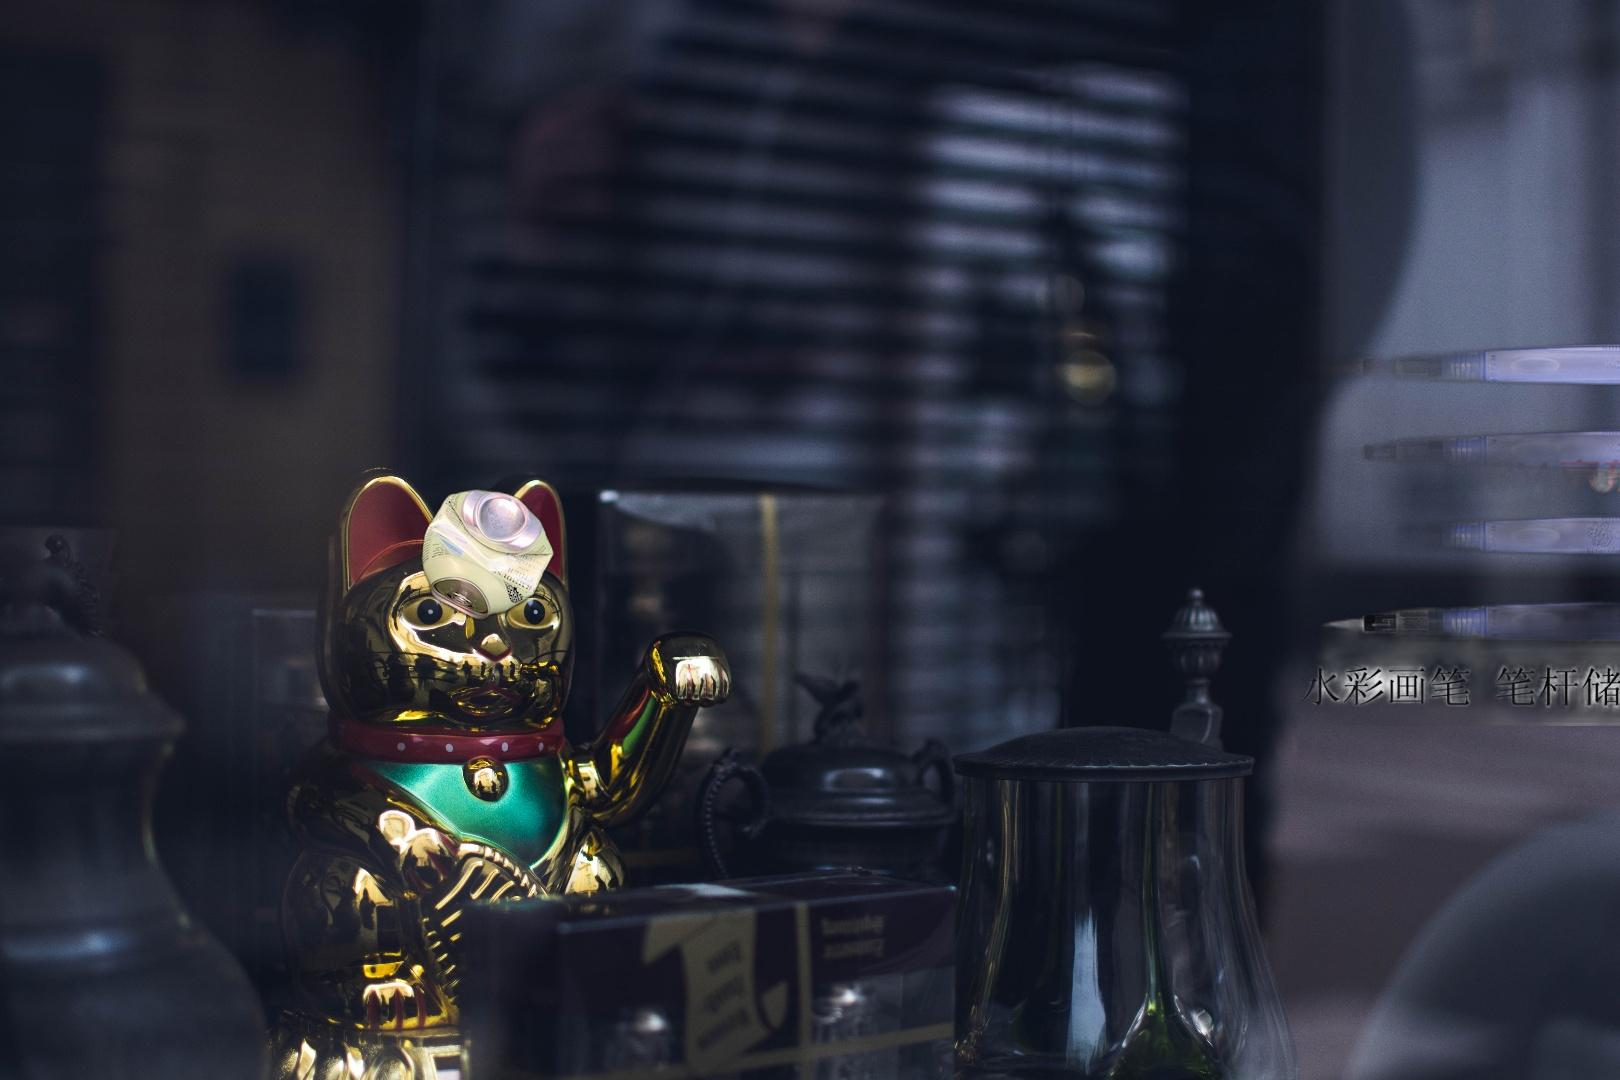metal-cans: (221, 485, 559, 947)
penholder: (1276, 225, 1620, 726)
